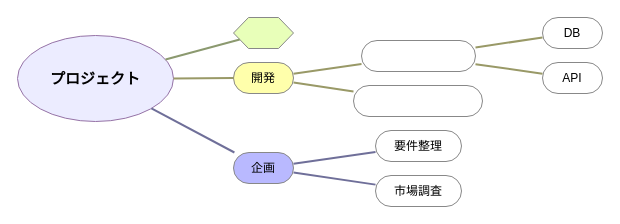
Image size: 620x224. Some labels were removed from this diagram. Each missing label, with the centre of its shape:
"バックエンド" goes at [418,56].
"フロントエンド" goes at [417,100].
"重要" goes at [263,32].
